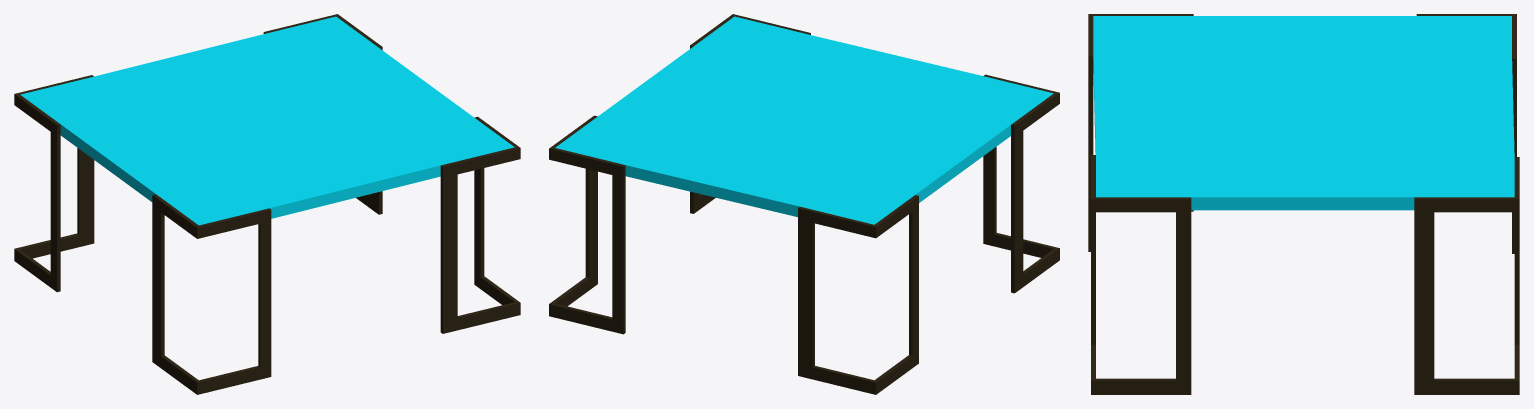
The model's file is coffe_table.fbx.
3 views of the same model, side by side, from view 1: azimuth 30°, elevation 25°; view 2: azimuth 150°, elevation 25°; view 3: azimuth 270°, elevation 25° (orthographic). The views are drawn at different scales.
Visible parts, largest first — view 1: Layer0_001; view 2: Layer0_001; view 3: Layer0_001.
Part boxes in pixels (bbox=[...]): Layer0_001: bbox=[14, 14, 520, 394]; Layer0_001: bbox=[549, 14, 1059, 394]; Layer0_001: bbox=[1088, 14, 1519, 394].
Size of the model in its own units: 1.74 by 0.8577 by 1.71.
